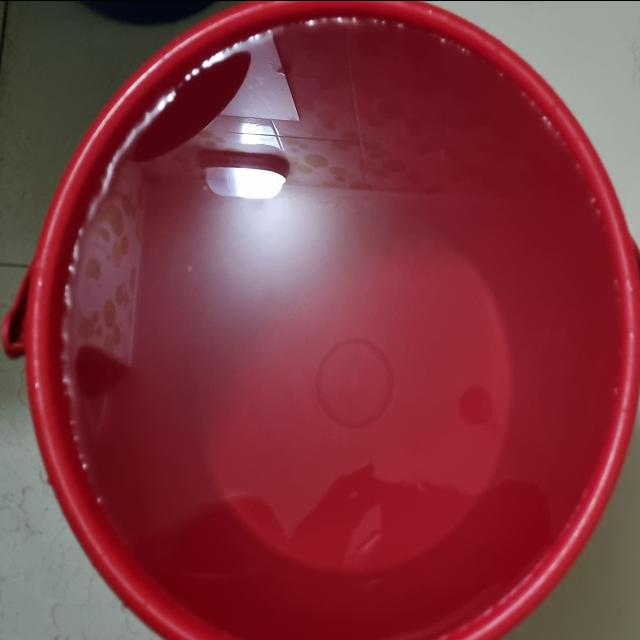Breeding Place: (2, 0, 640, 640)
